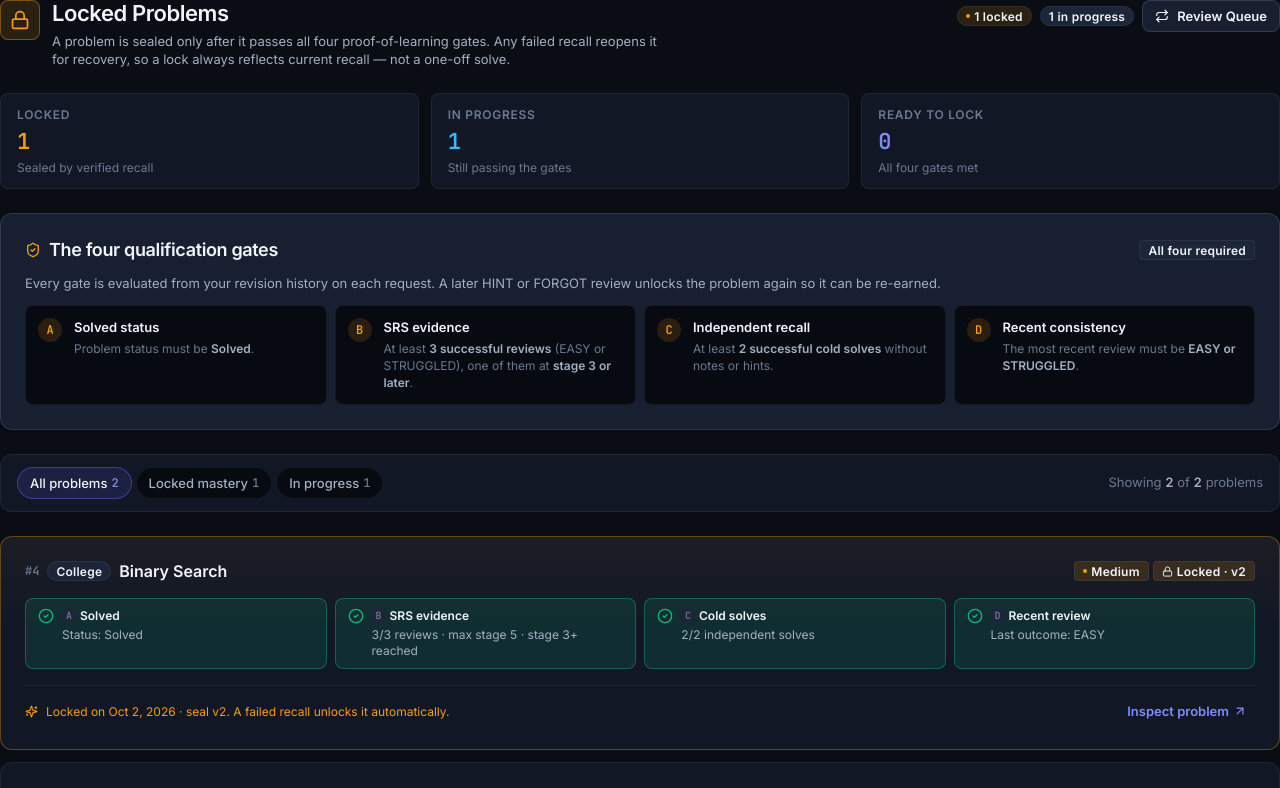
Test: LockedProblemsPage (Locked Mastery redesign) › filters by mastery status while keeping catalog-wide counts
The image size is (1280, 788).
Check: the link "Binary Search" is shown, box [119,561,227,582]
Check: the button "All problems 2" is shown, box [17,467,132,499]
Click the button "Locked mastery 1". click: (204, 483)
box: [136,467,272,499]
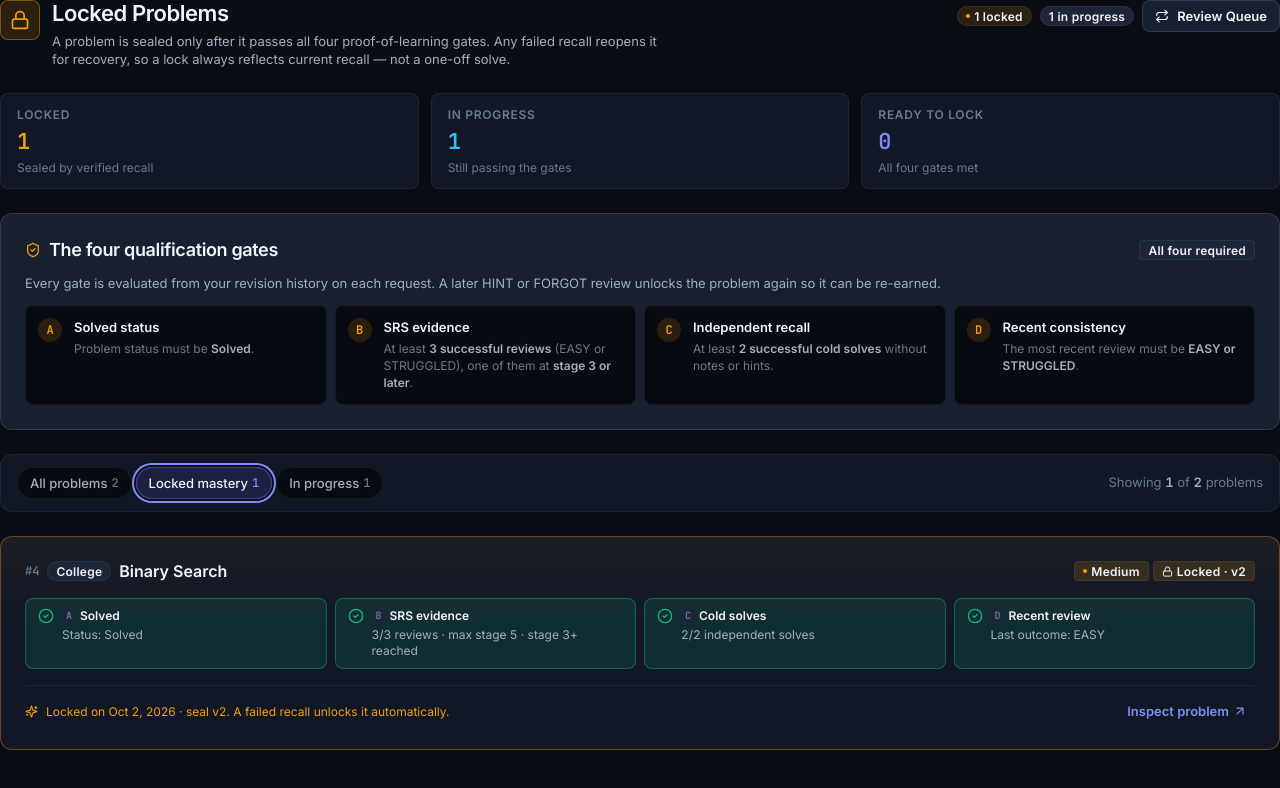
Check: the link "Binary Search" is shown, box [119,561,227,582]
Check: the text "Showing 1 of 2 problems" is shown, box [1108,473,1263,492]
